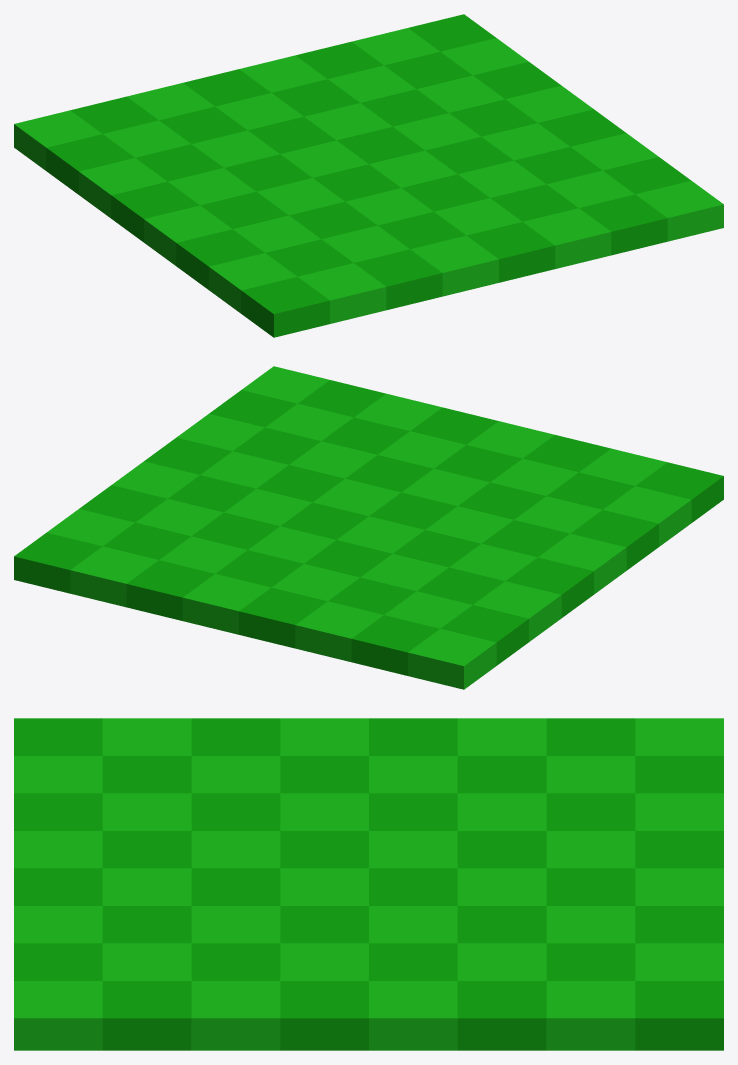
The model's file is GroundGrass01.fbx.
3 renders of one model, top to bottom at view 1: azimuth 30°, elevation 25°; view 2: azimuth 150°, elevation 25°; view 3: azimuth 270°, elevation 25°, orthographic. The views are drawn at different scales.
Parts seen in each view (by area): view 1: ObjObject.002; view 2: ObjObject.002; view 3: ObjObject.002.
Boxes of the visible parts, left/top/right/bottom form: ObjObject.002: left=14, top=14, right=723, bottom=337; ObjObject.002: left=14, top=366, right=723, bottom=689; ObjObject.002: left=14, top=718, right=723, bottom=1050.
Size of the model in its own units: 400 by 400 by 20.
1 material, 1 textured.
